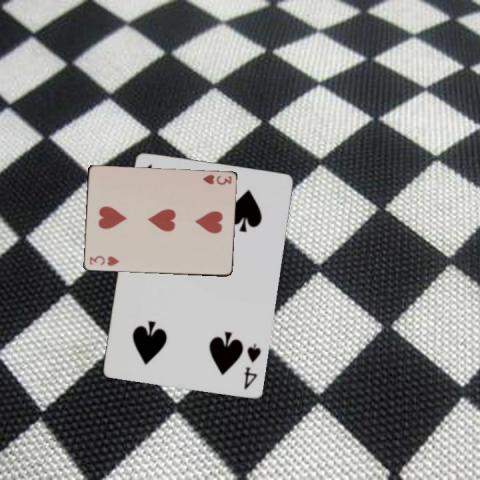3h: (199, 171, 233, 186), (87, 253, 120, 267)
4s: (241, 340, 262, 390)
